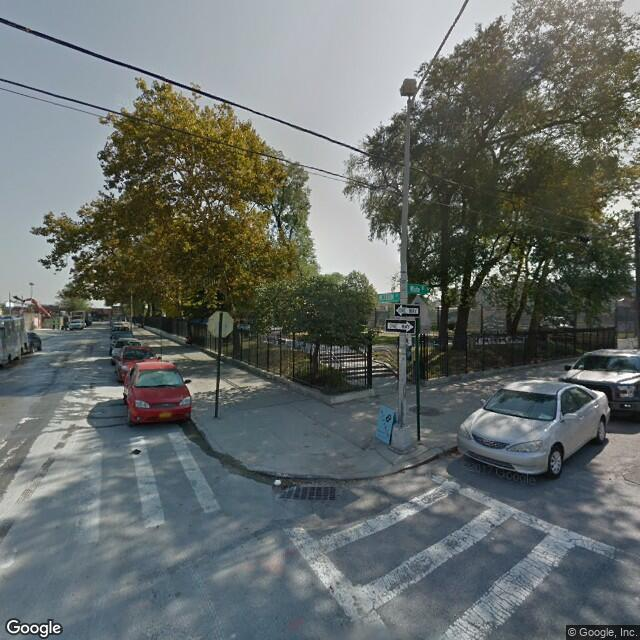litter: (124, 442, 143, 459), (263, 474, 283, 489)
